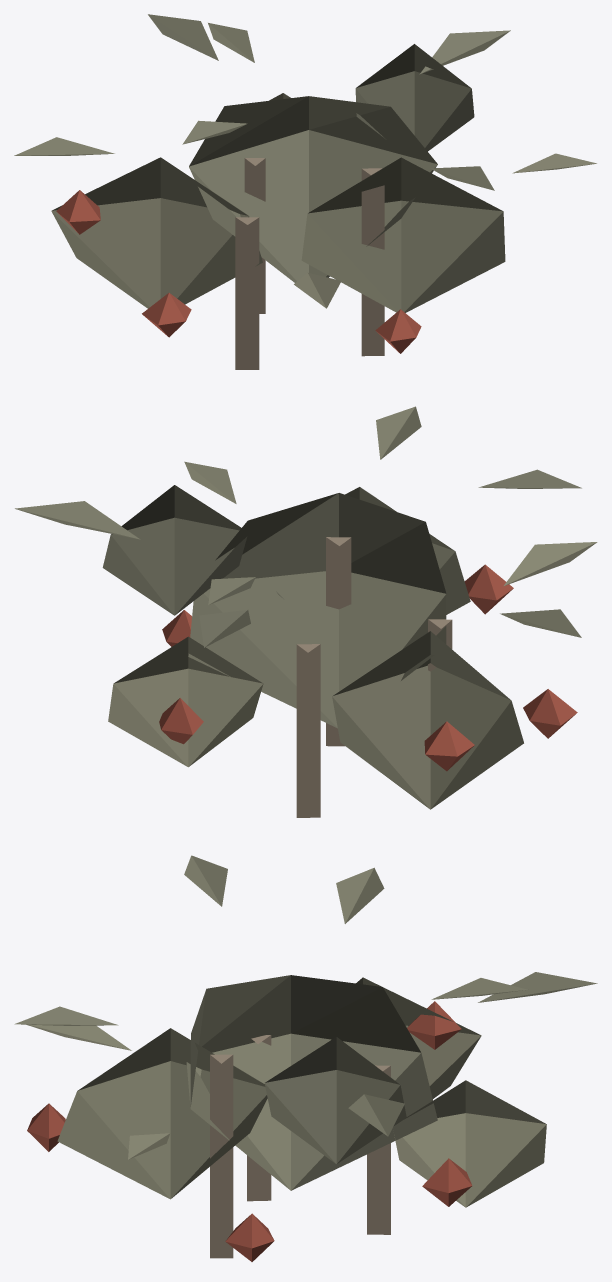
File: guan.dujuan@fruiting__winter.glb
The picture shows the model from 3 angles, top to bottom: view 1: azimuth 30°, elevation 25°; view 2: azimuth 150°, elevation 25°; view 3: azimuth 270°, elevation 25°; orthographic projection. The views are drawn at different scales.
Parts seen in each view (by area): view 1: guan.dujuan@fruiting__winter; view 2: guan.dujuan@fruiting__winter; view 3: guan.dujuan@fruiting__winter.
Boxes of the visible parts, x1=… form: guan.dujuan@fruiting__winter: x1=14, y1=14, x2=596, y2=369; guan.dujuan@fruiting__winter: x1=15, y1=406, x2=597, y2=817; guan.dujuan@fruiting__winter: x1=14, y1=855, x2=597, y2=1261.
Size of the model in its own units: 2.66 by 1.4 by 2.46.
